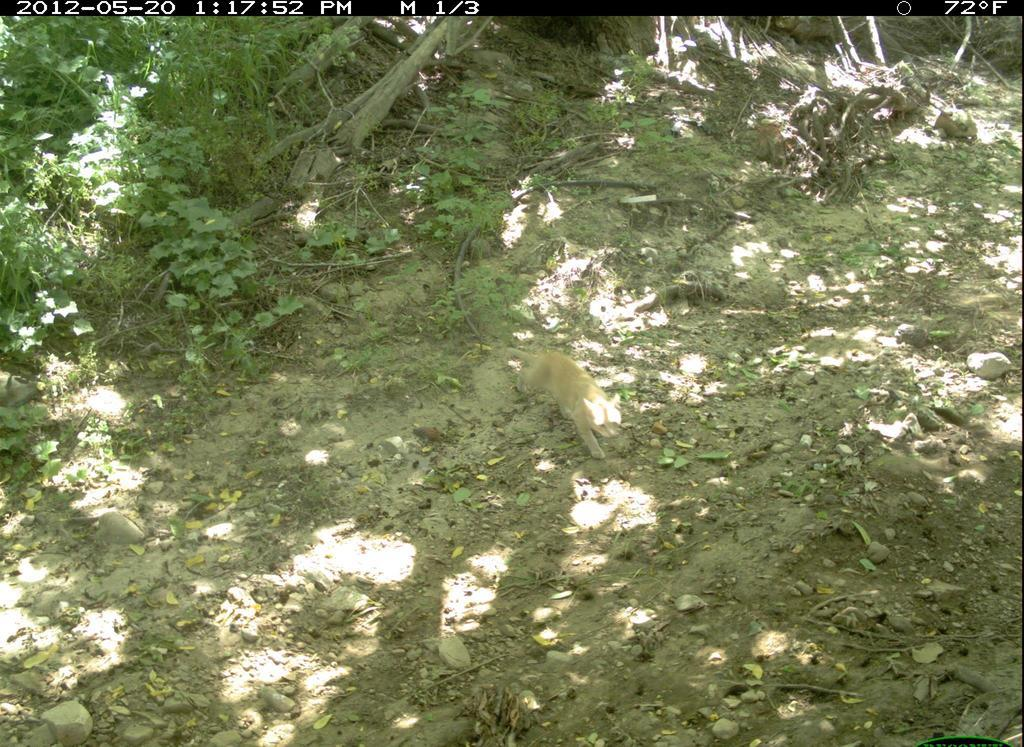cat: (498, 337, 633, 465)
